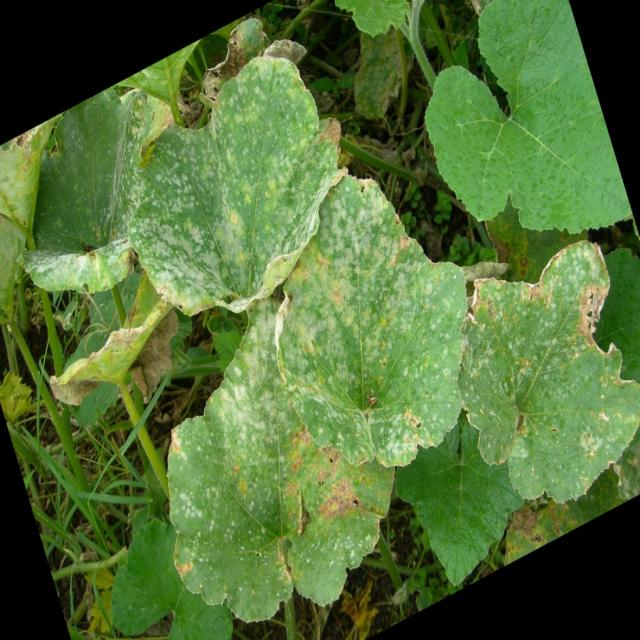Powdery Mildew: (273, 173, 468, 469), (125, 54, 343, 316)
